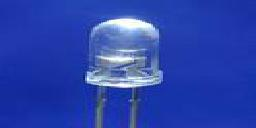LED: (84, 15, 167, 128)
